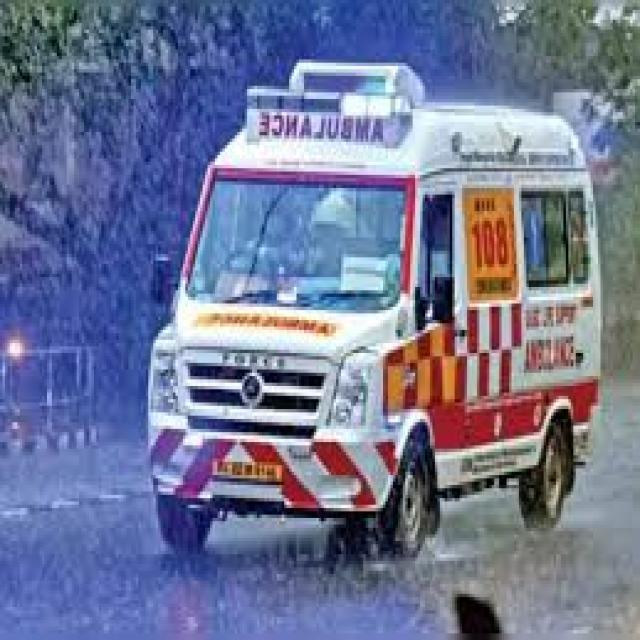ambulance: (148, 36, 609, 554)
